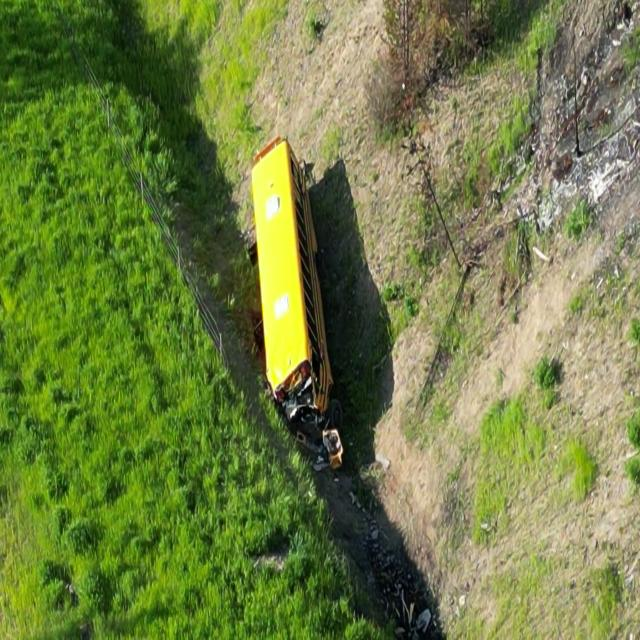Accident: (240, 132, 343, 442)
